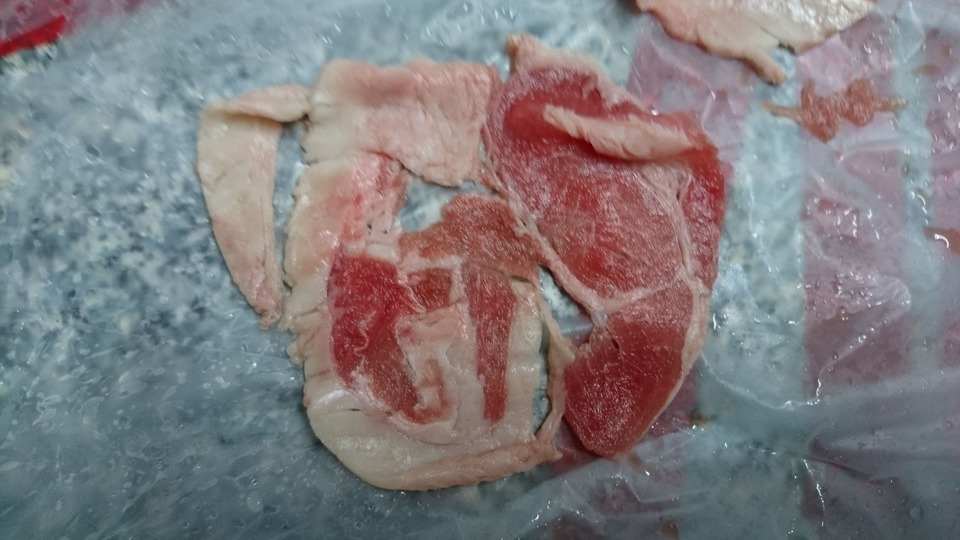restructured meat: (200, 57, 721, 476)
